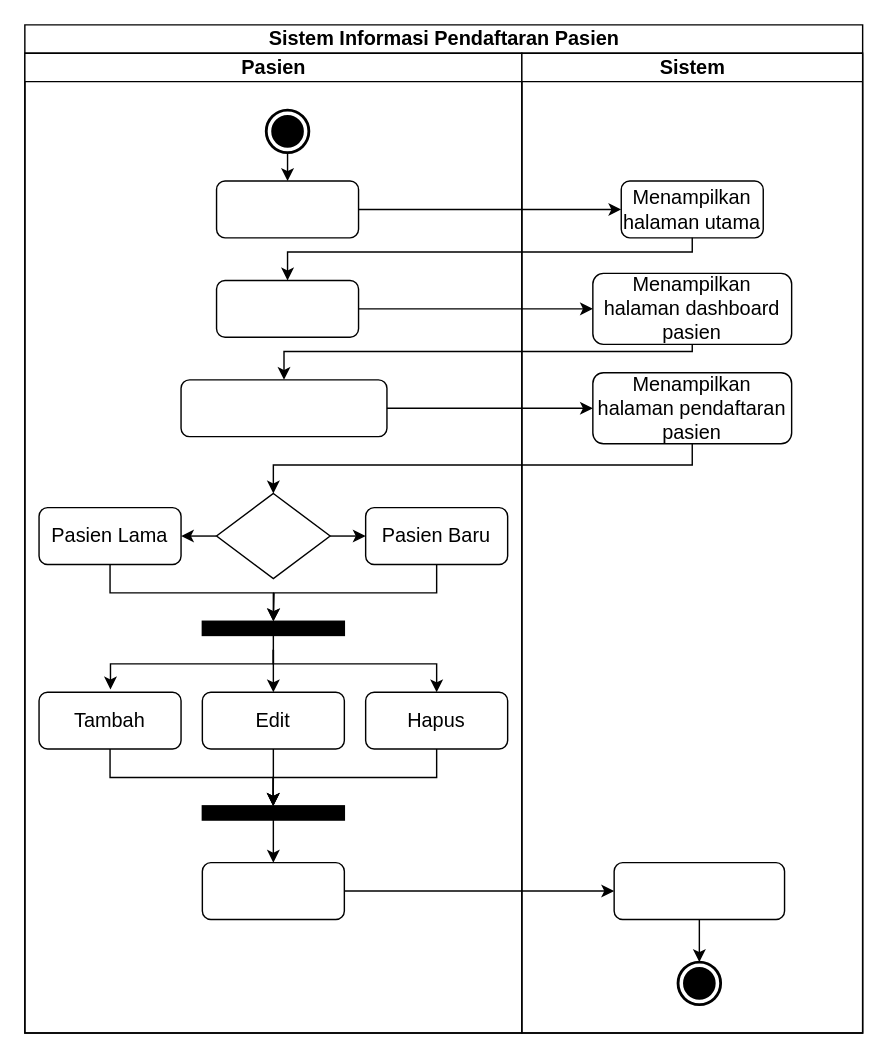
Some shapes in this 888 by 1058 pixel diagram are drawn without their labels. Each missing label, with the centre of its shape:
Login: point 287,308
Membuka Website: point 287,209
Menyimpan data ke database: point 699,890
Pasien Lama/Baru?: point 272,535
Pilih Menu "Pendaftaran Pasien": point 283,407
Simpan: point 272,890
